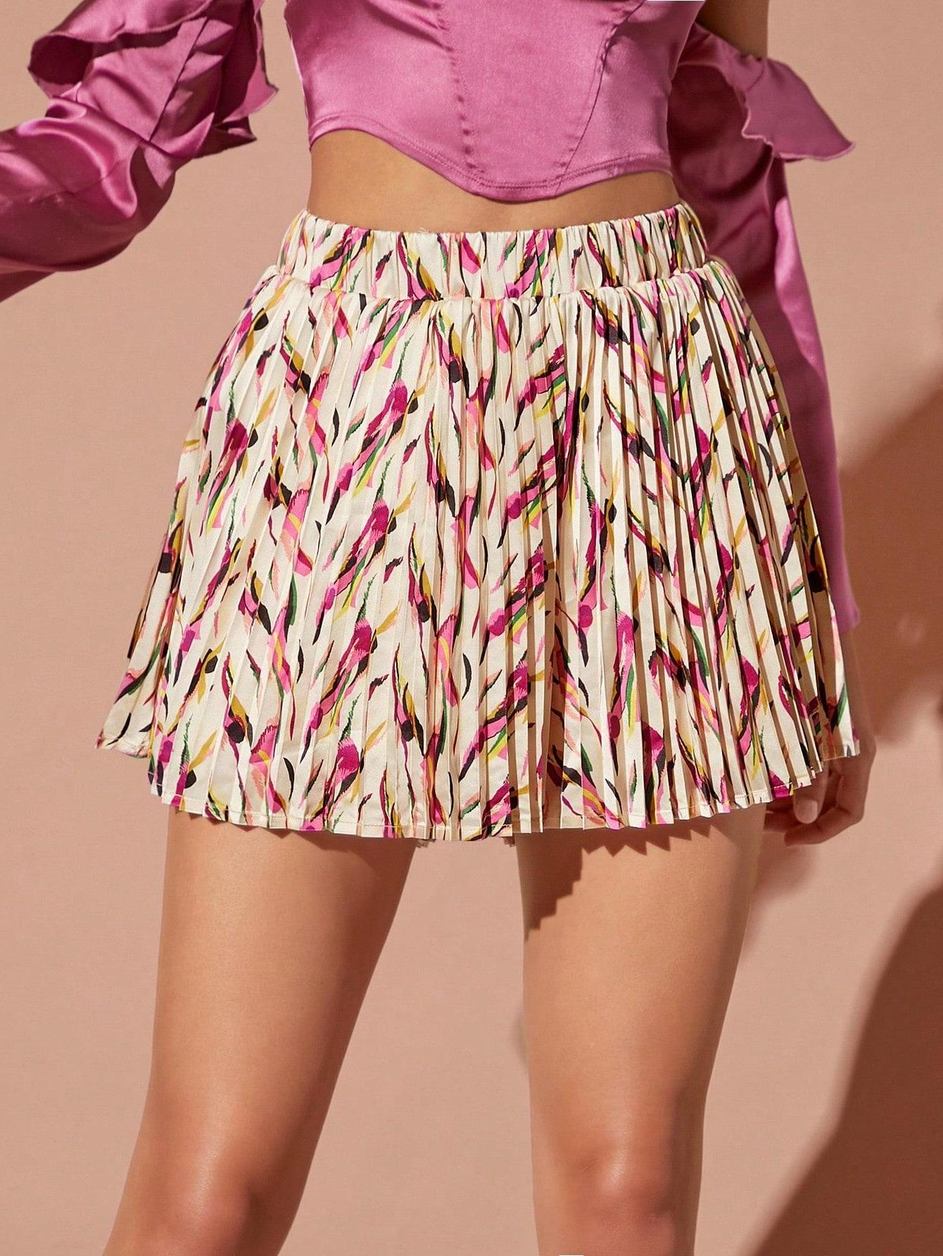skirt: (77, 204, 865, 849)
